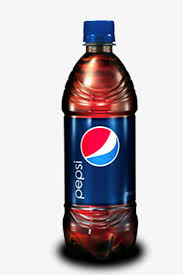pepsi: (80, 124, 124, 167), (71, 160, 87, 200)
